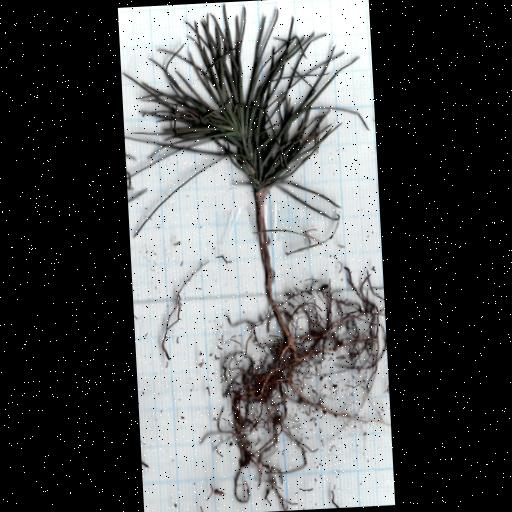flowerCedr: (124, 5, 368, 196), (351, 110, 368, 127), (349, 59, 355, 64)
rootCedr: (220, 268, 389, 510)
stemCedr: (254, 191, 275, 306)
